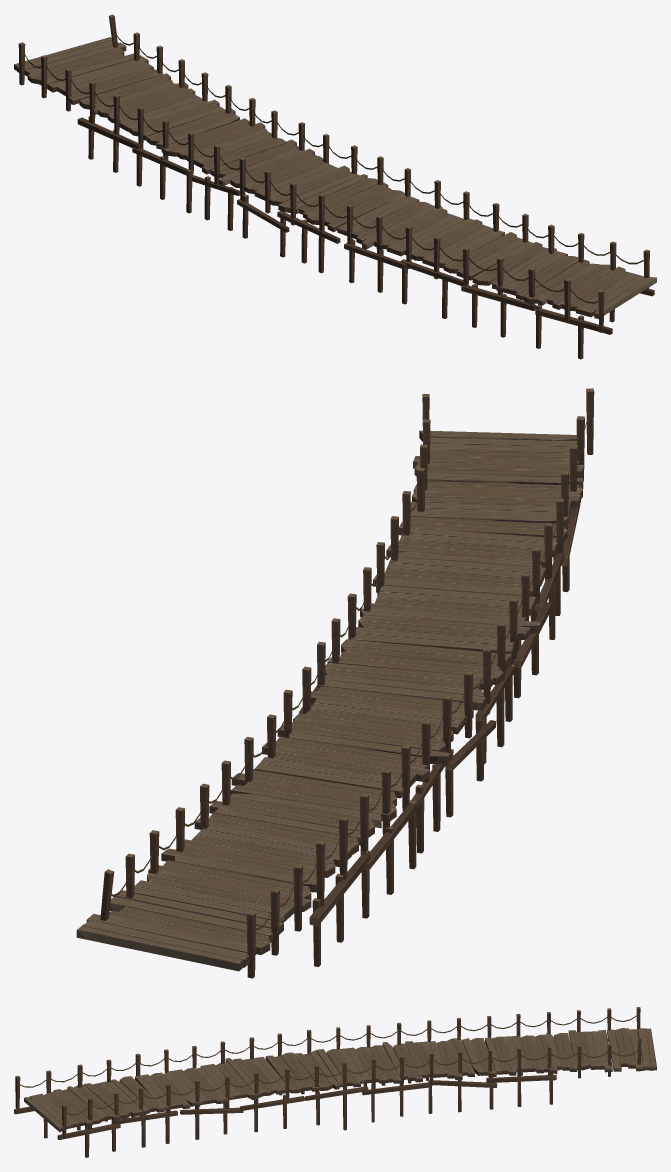
The model's file is Area_16_5.fbx.
The picture shows the model from 3 angles, top to bottom: view 1: azimuth 30°, elevation 25°; view 2: azimuth 150°, elevation 25°; view 3: azimuth 270°, elevation 25°; orthographic projection. The views are drawn at different scales.
Visible parts, largest first — view 1: Area_16_5; view 2: Area_16_5; view 3: Area_16_5.
Boxes of the visible parts, left/top/right/bottom form: Area_16_5: left=14, top=14, right=656, bottom=359; Area_16_5: left=76, top=388, right=594, bottom=978; Area_16_5: left=14, top=1007, right=656, bottom=1157.
Bounding box in the file's own units: 2513 × 835 × 6756.
